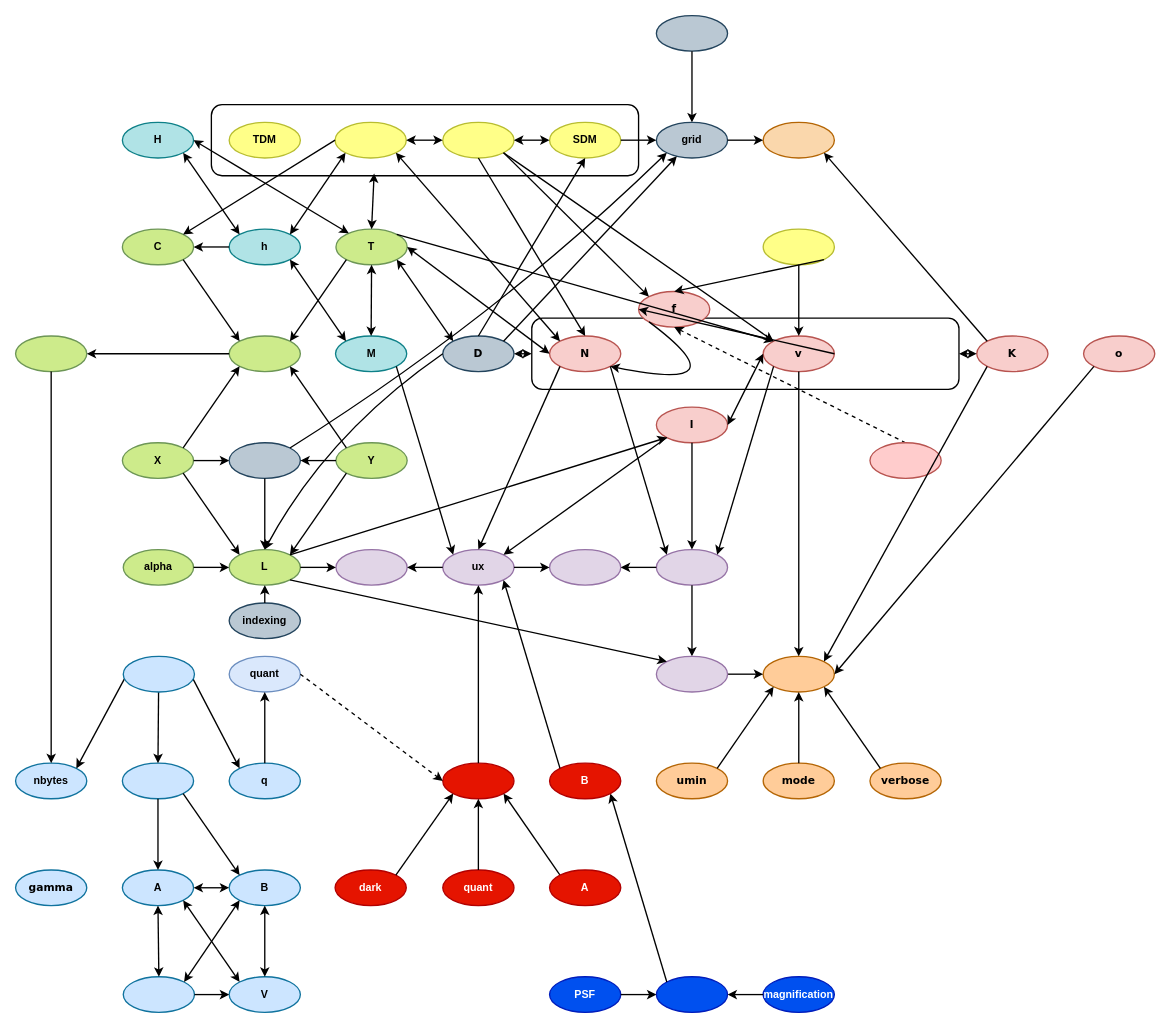
This 1171x1029 diagram has some shape labels left out. Here are the shapes that lost their labels. From the top down, the centre of each, then its label:
point (691, 33): angle
point (370, 139): WDM
point (478, 139): FDM
point (798, 139): SSB
point (798, 246): static
point (51, 353): size
point (264, 353): shape
point (264, 460): axis
point (905, 460): reverse
point (371, 567): SNR
point (585, 567): DR
point (691, 567): UMR
point (158, 673): dtype
point (691, 673): eta
point (798, 673): PU
point (157, 780): Imax
point (478, 780): ui
point (158, 994): beta
point (691, 994): MTF
